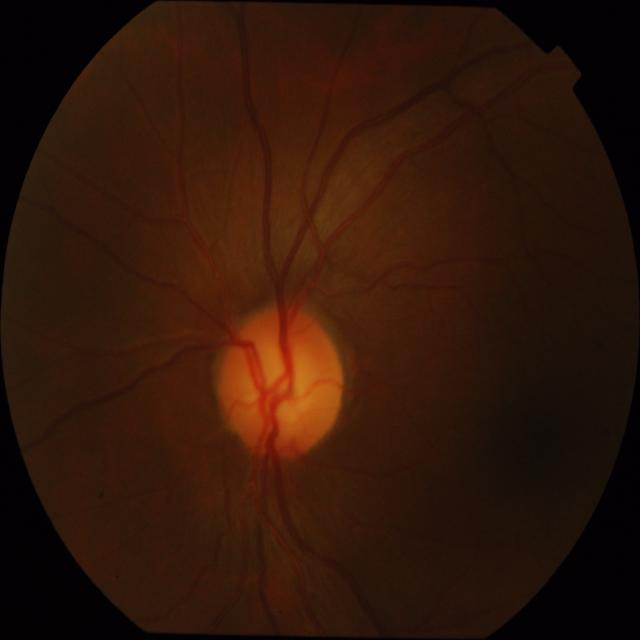OC: (247, 352, 316, 424)
OD: (215, 306, 344, 460)
